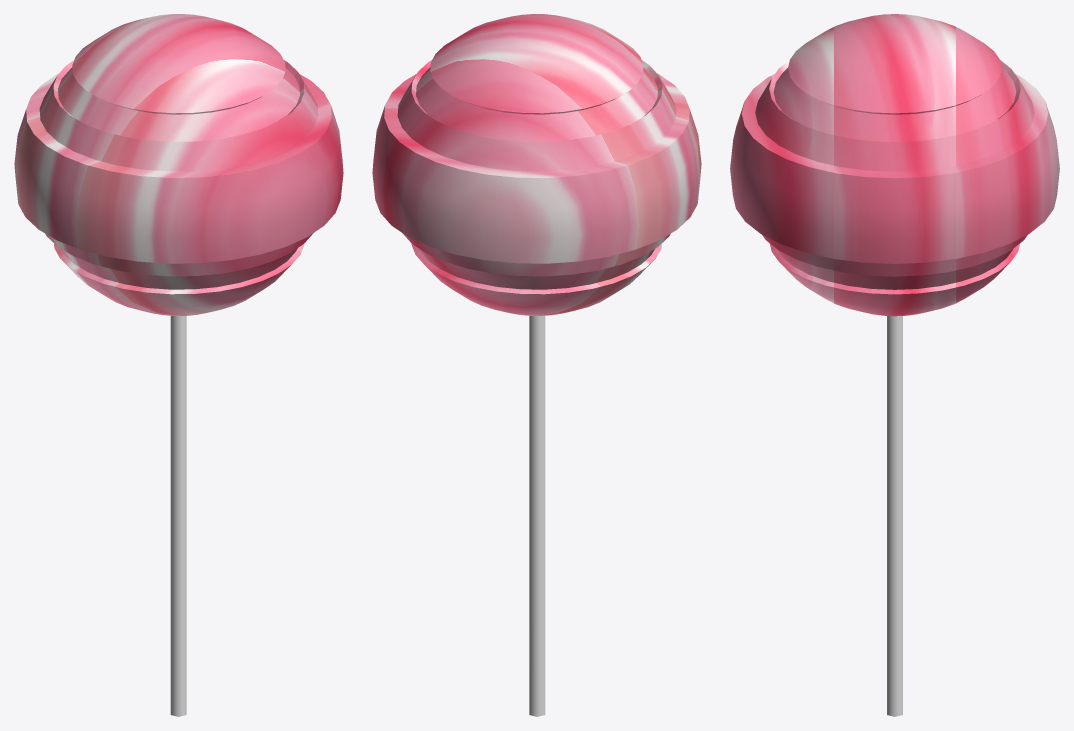
The model's file is ChupaChups 1.fbx.
3 renders of one model, left to right at view 1: azimuth 30°, elevation 25°; view 2: azimuth 150°, elevation 25°; view 3: azimuth 270°, elevation 25°, orthographic.
Parts seen in each view (by area): view 1: Sphere001, Cylinder009; view 2: Sphere001, Cylinder009; view 3: Sphere001, Cylinder009.
Part boxes in pixels (box(x1,y1,x2,y2)): Sphere001: box(14, 14, 343, 315); Cylinder009: box(170, 315, 186, 716); Sphere001: box(372, 14, 701, 315); Cylinder009: box(529, 315, 545, 716); Sphere001: box(730, 14, 1059, 316); Cylinder009: box(887, 316, 902, 716).
Size of the model in its own units: 19.55 by 44.8 by 19.55.
Materials: 2 (1 with a texture image).
